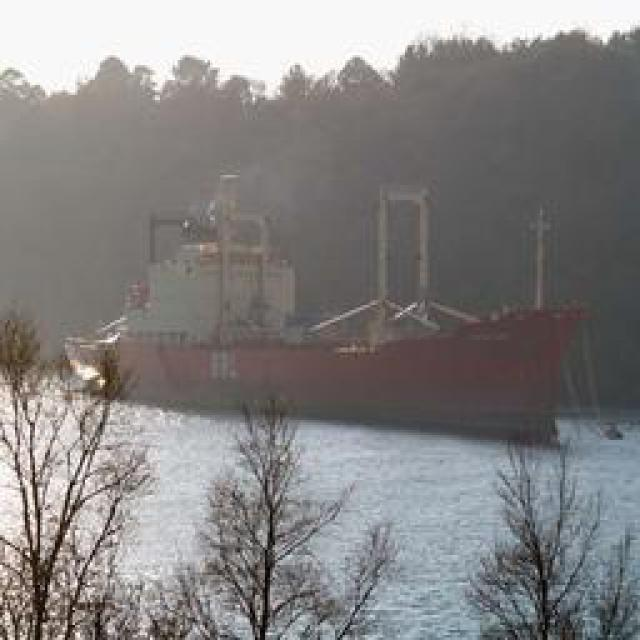Ship: (81, 298, 599, 436)
